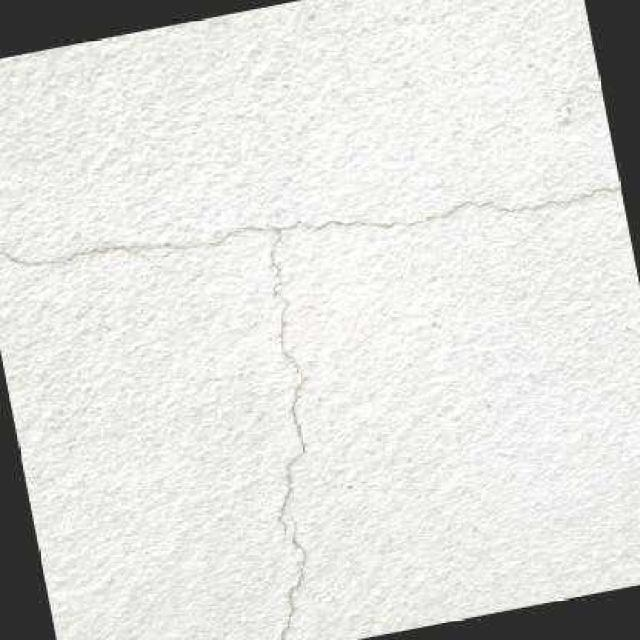D00: (0, 181, 621, 538), (275, 513, 310, 640)
